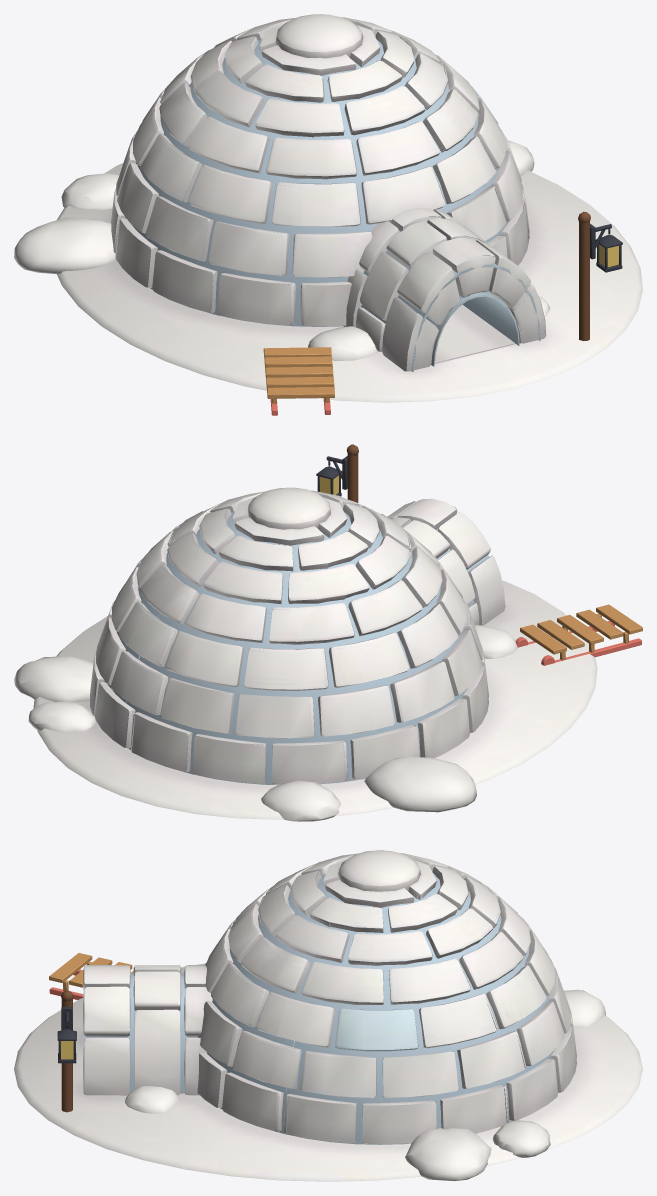
Rendered from iglu.glb.
The picture shows the model from 3 angles, top to bottom: view 1: azimuth 30°, elevation 25°; view 2: azimuth 150°, elevation 25°; view 3: azimuth 270°, elevation 25°; orthographic projection. The views are drawn at different scales.
Visible parts, largest first — view 1: igloo_body; view 2: igloo_body; view 3: igloo_body.
Boxes of the visible parts, bbox=[...] form: igloo_body: bbox=[14, 14, 642, 415]; igloo_body: bbox=[14, 444, 642, 821]; igloo_body: bbox=[14, 850, 642, 1181].
Size of the model in its own units: 4.72 by 2.06 by 5.54.
Materials: 7 (1 with a texture image).
